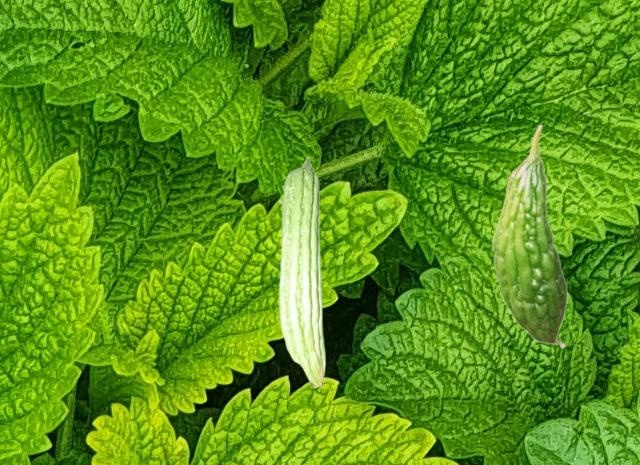ampalaya: (491, 124, 568, 349), (276, 154, 327, 390)
